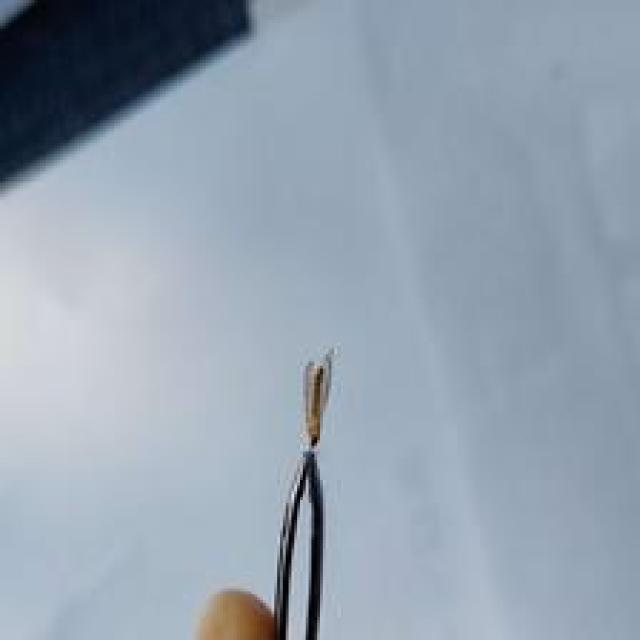Culex: (267, 345, 338, 640)
